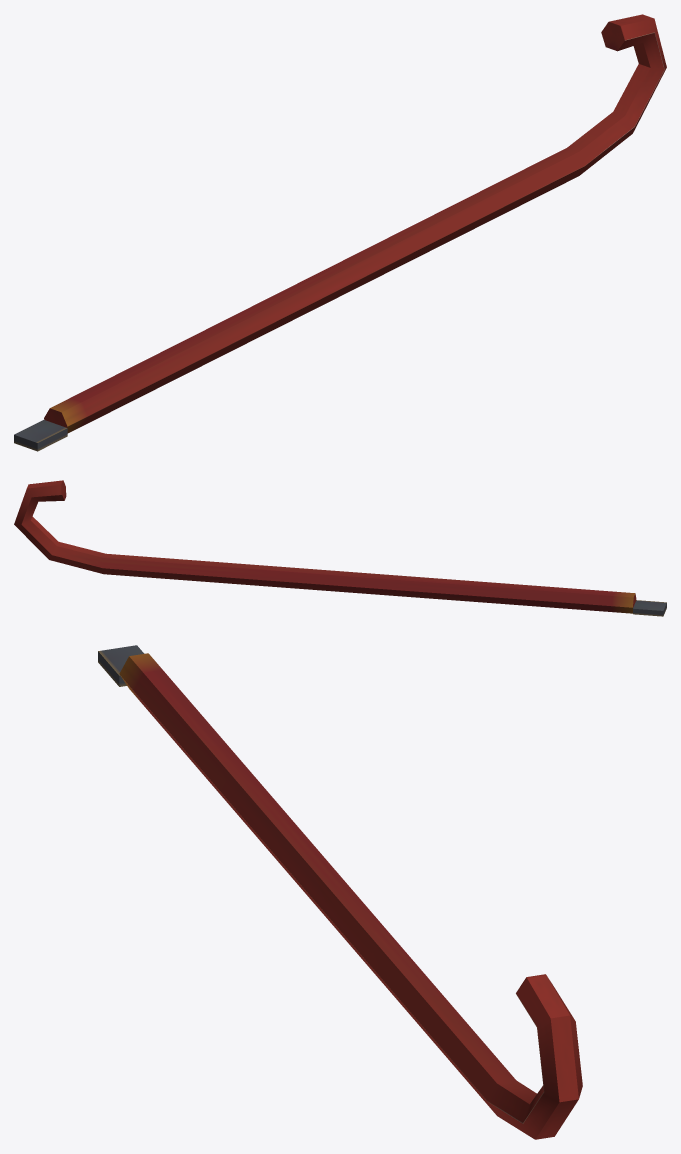
File: crowbar.obj
The picture shows the model from 3 angles, top to bottom: view 1: azimuth 30°, elevation 25°; view 2: azimuth 150°, elevation 25°; view 3: azimuth 270°, elevation 25°; orthographic projection. The views are drawn at different scales.
Visible parts, largest first — view 1: crowbar; view 2: crowbar; view 3: crowbar.
Boxes of the visible parts, <box> form: crowbar: <box>14,14,666,451</box>; crowbar: <box>14,480,666,616</box>; crowbar: <box>98,645,582,1139</box>.
Size of the model in its own units: 0.6049 by 0.0922 by 0.2343.
1 material, 1 textured.
